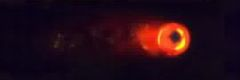keyhole: (168, 29, 183, 46)
